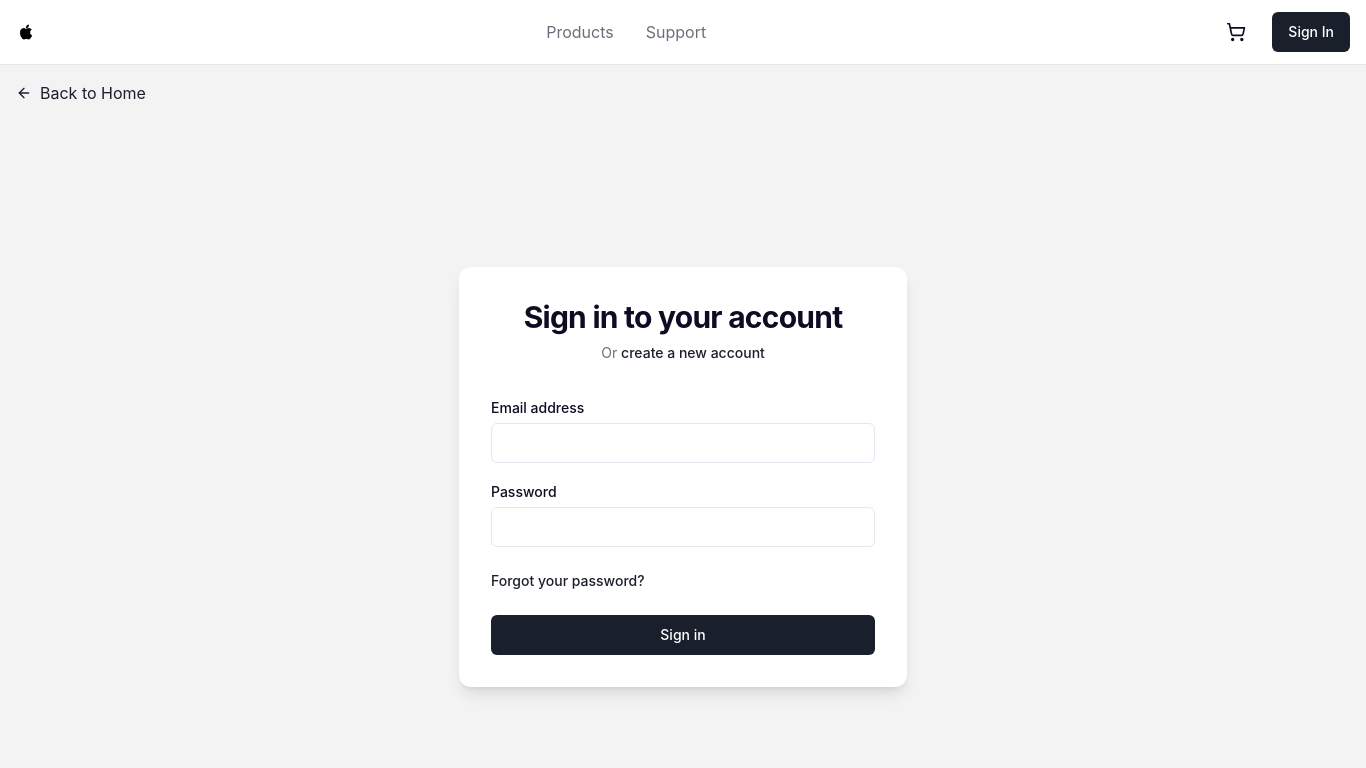
Test: Login Page Functionality › displays an error message if the email is not entered
Type "87654321" into the password field labelled "Password" at x=683, y=527, box x1=491 y1=507 x2=875 y2=547
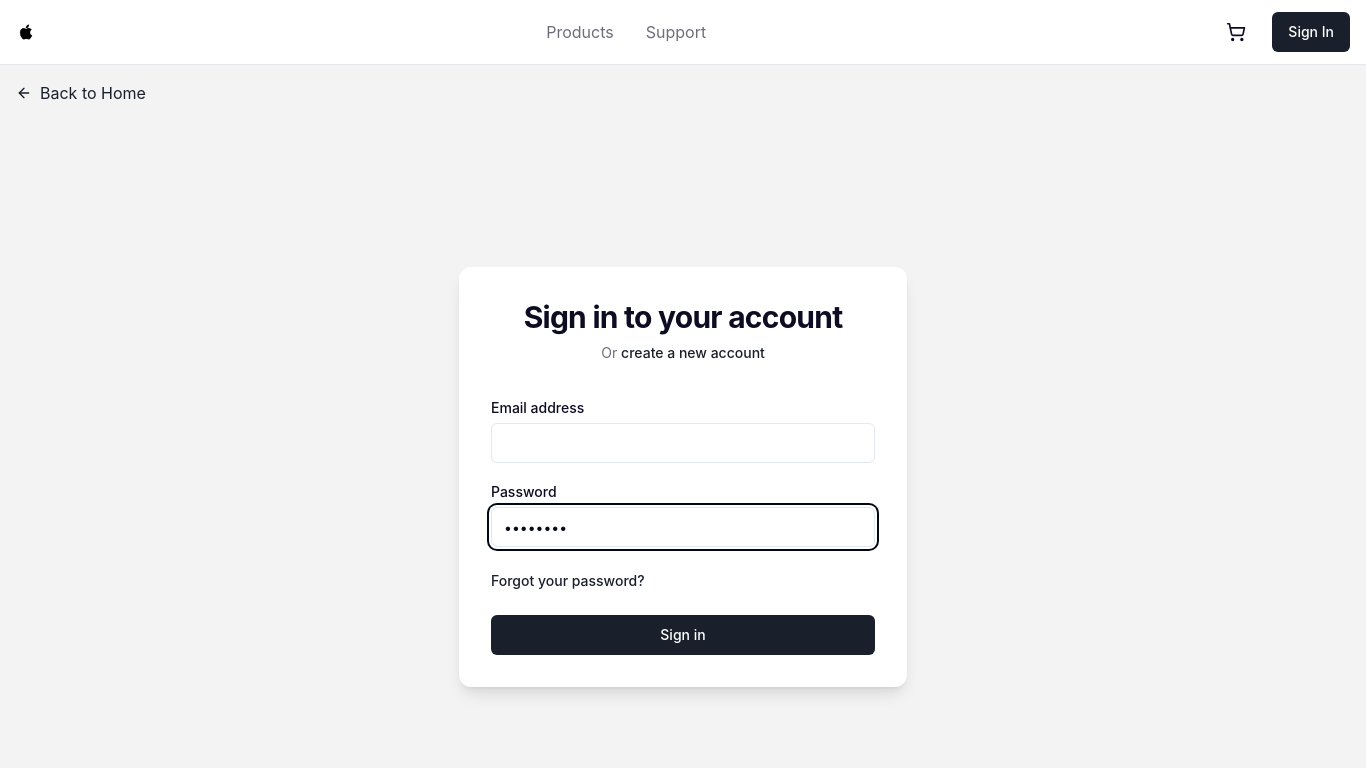
Click the submit button at x=683, y=635, box x1=491 y1=615 x2=875 y2=655
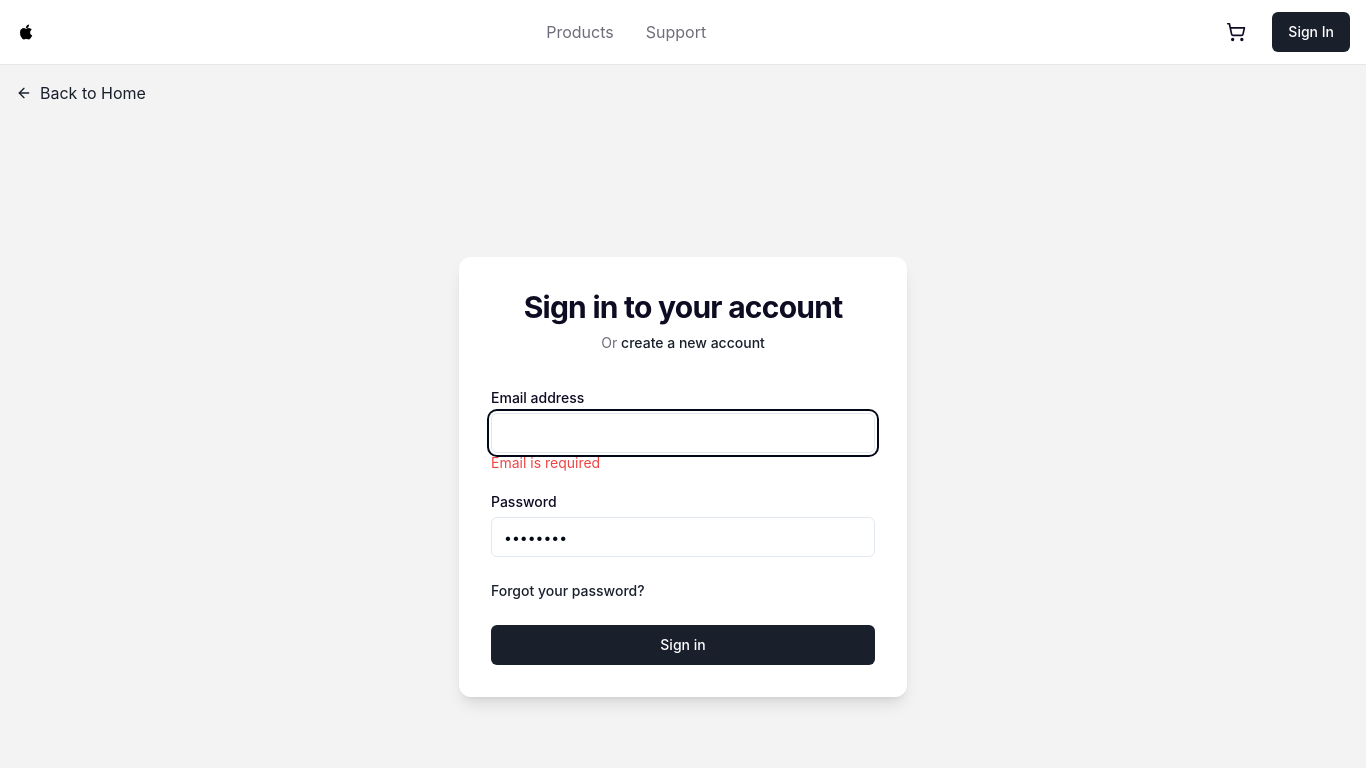
Check: the text "Email is required" is shown, box x1=491 y1=454 x2=600 y2=471
